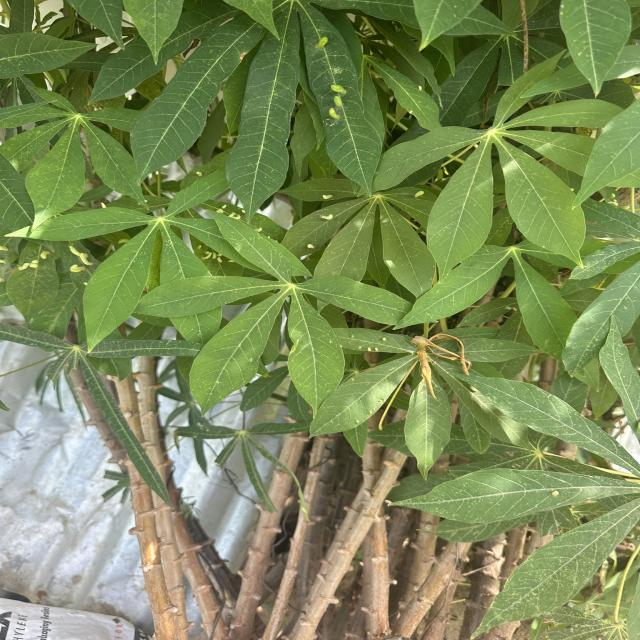Mosca: (59, 238, 99, 282), (192, 237, 237, 274), (320, 79, 353, 124), (19, 247, 52, 277), (350, 339, 392, 360), (213, 201, 247, 221), (299, 235, 320, 257), (313, 30, 330, 55), (314, 215, 340, 227), (411, 185, 428, 200), (192, 167, 209, 181), (316, 192, 336, 203)
